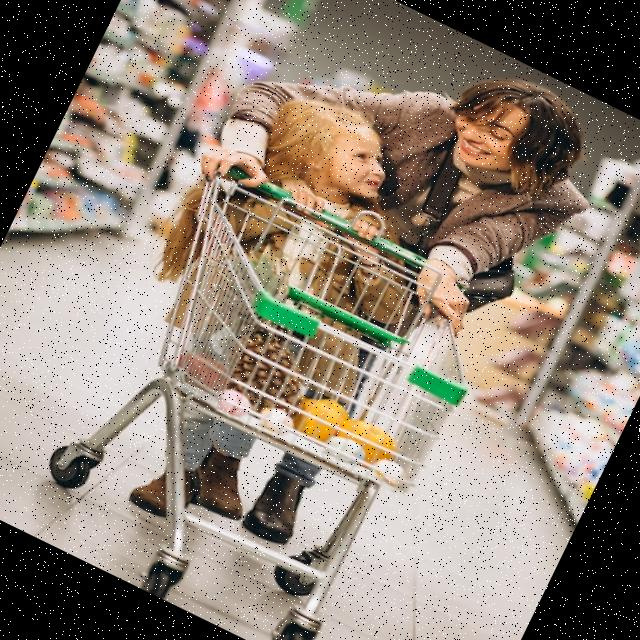Person: (64, 0, 628, 603), (51, 62, 474, 576)
